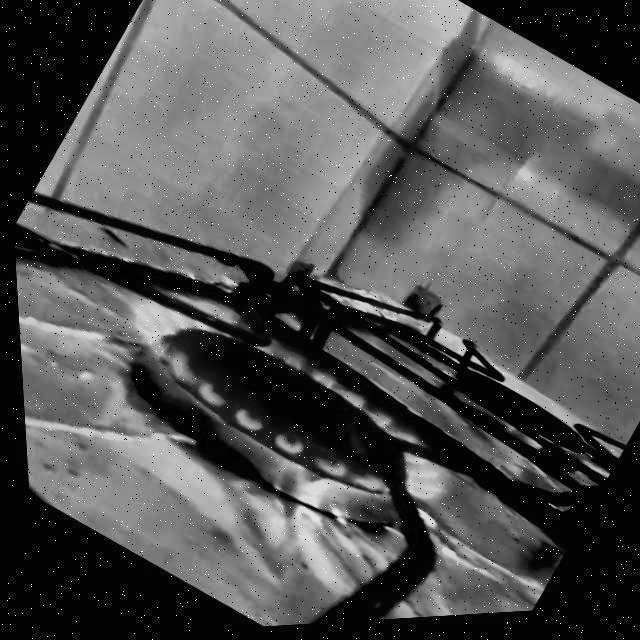Fire: (86, 106, 561, 557)
